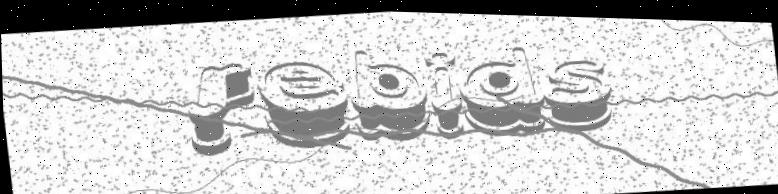b: (346, 36, 434, 146)
d: (457, 38, 548, 137)
e: (255, 53, 354, 151)
i: (423, 45, 466, 139)
r: (180, 50, 263, 156)
s: (535, 49, 618, 133)
